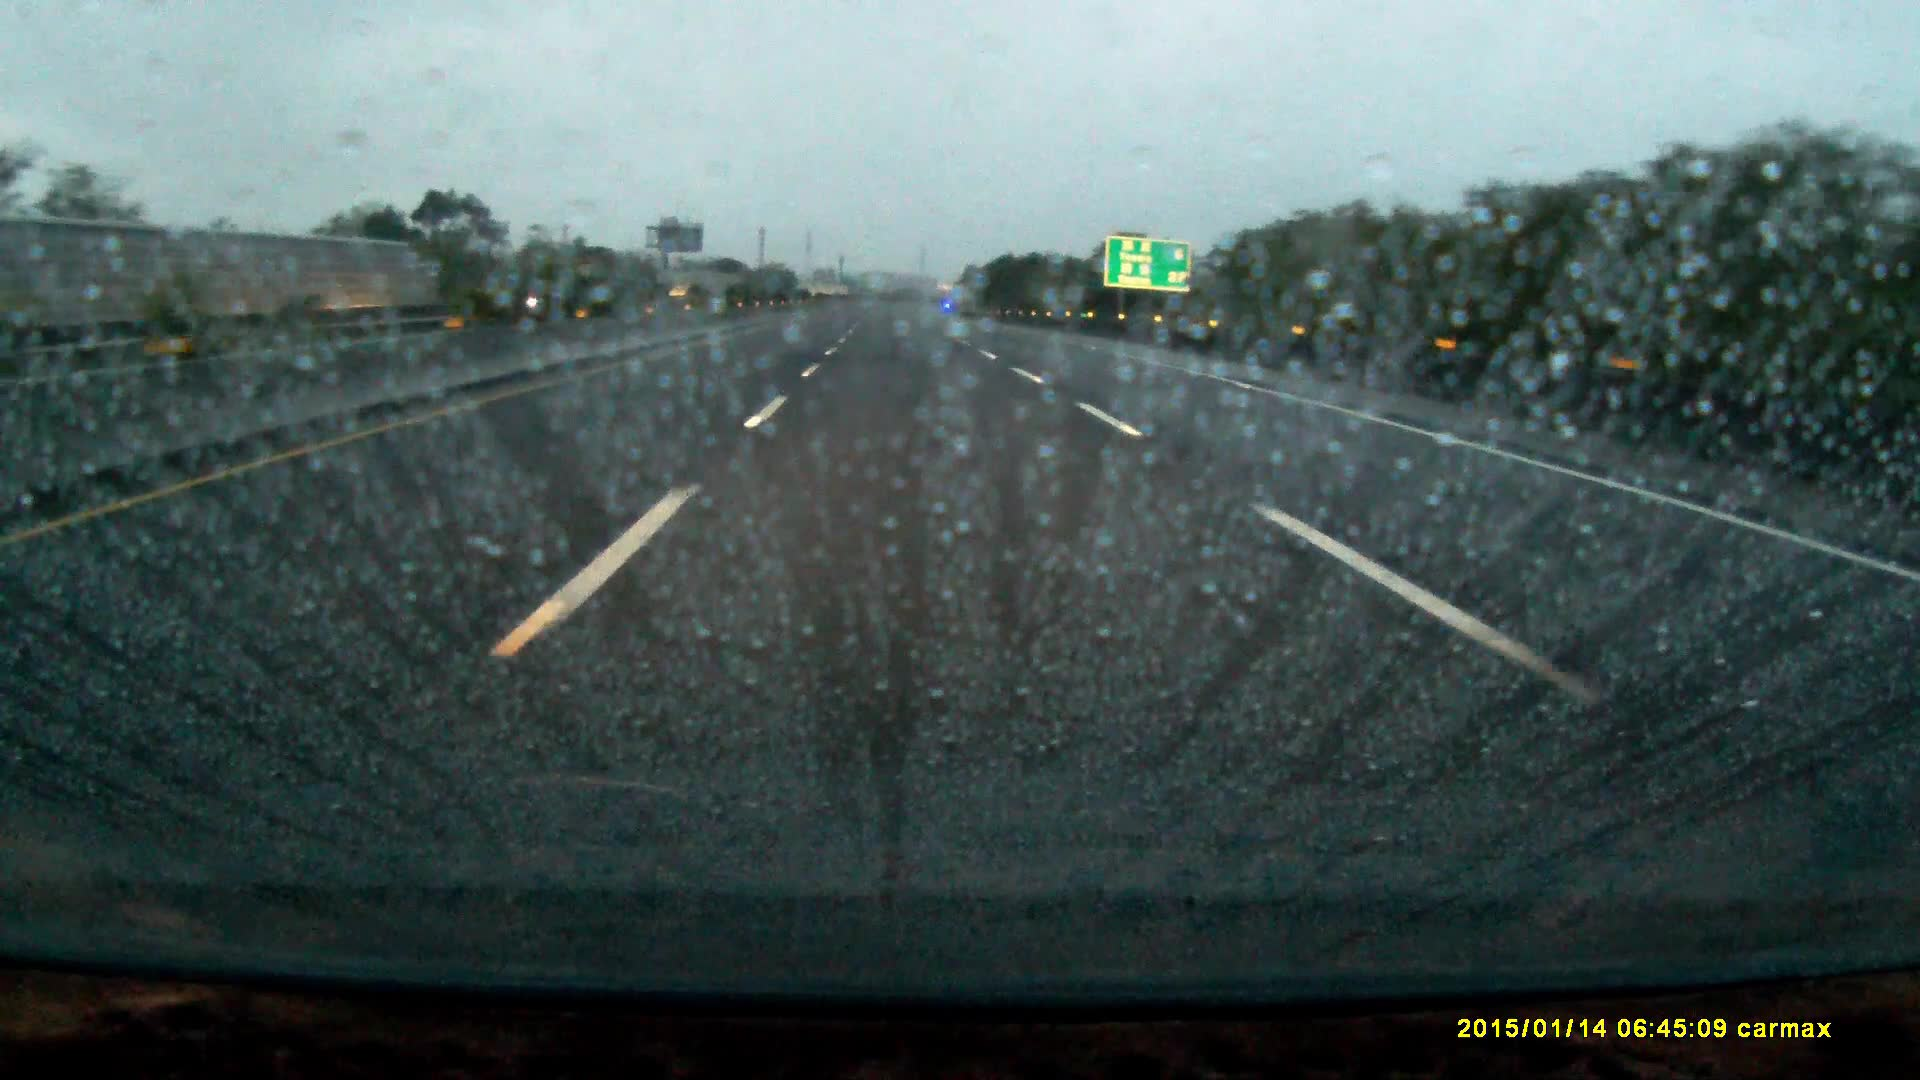vehicle: (526, 261, 615, 309)
